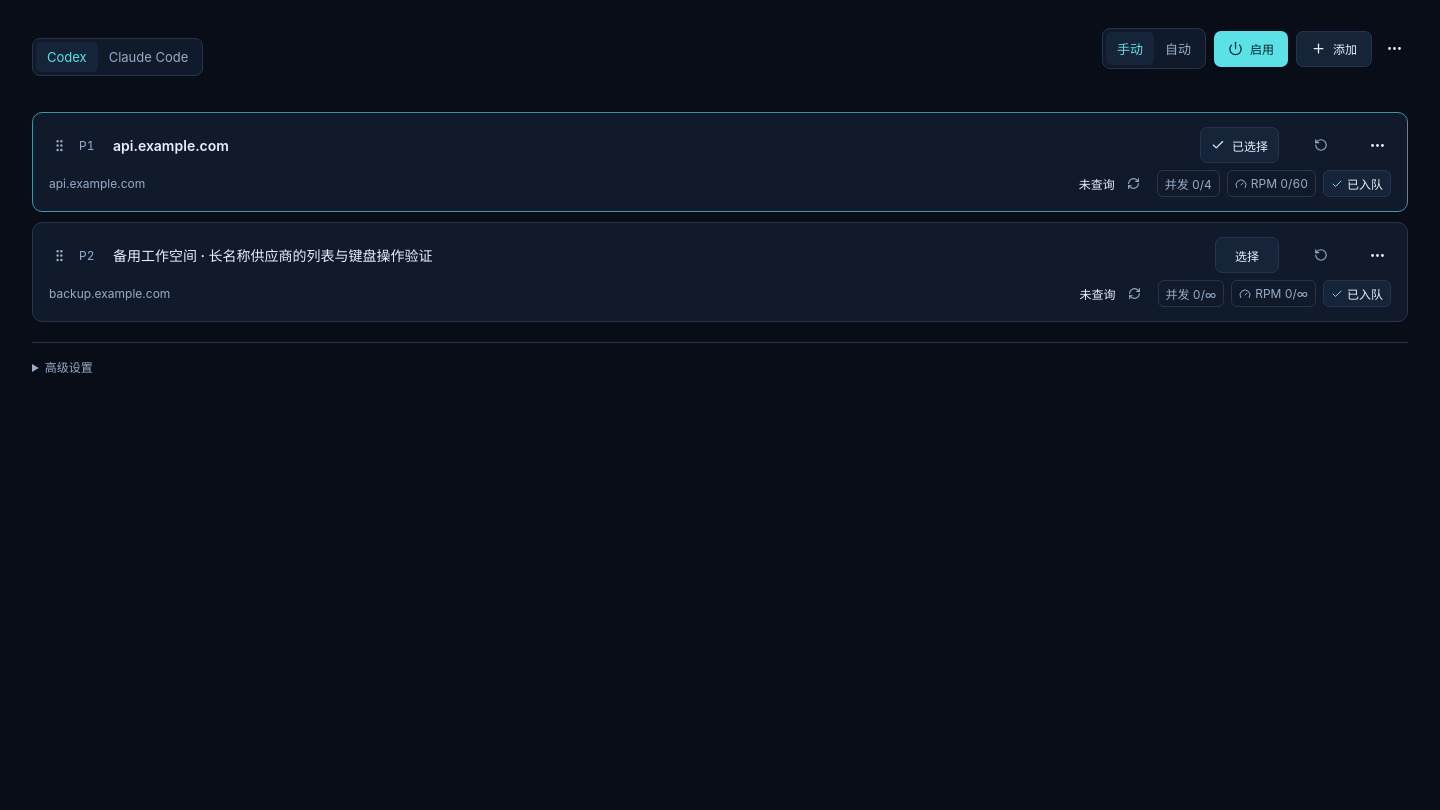
refreshes authoritative configuration after a cap conflict, preserves input and permits explicit retry
This screenshot has width=1440, height=810.
Click the button with aria-label "api.example.com 并发上限".
click(1188, 184)  # box x1=1157 y1=170 x2=1220 y2=197
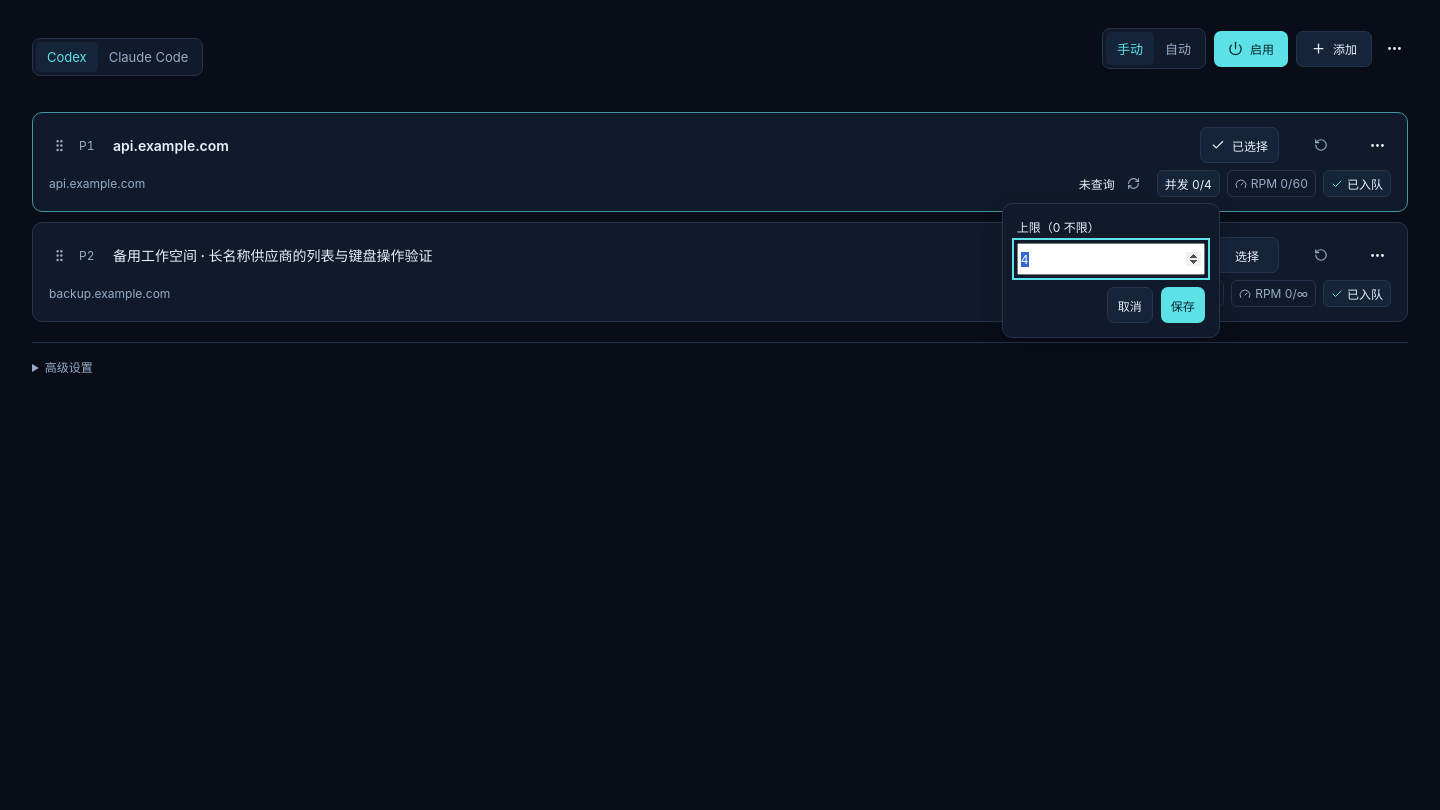
Replace the text in the number field labelled "上限（0 不限）" with "12" at [1111, 259], box x1=1017 y1=243 x2=1205 y2=275
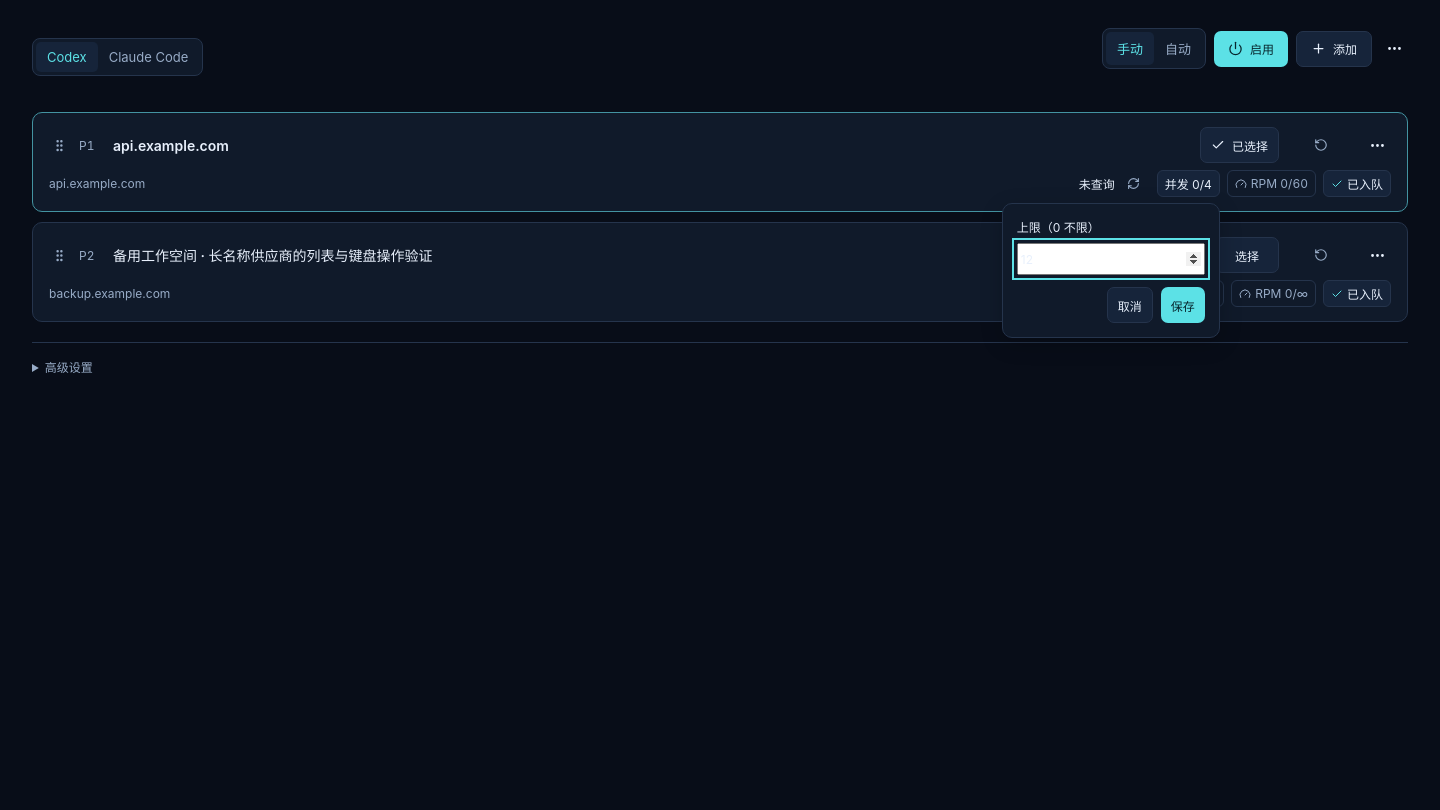
Click the button "保存".
click(1183, 305)  # box x1=1161 y1=287 x2=1205 y2=323
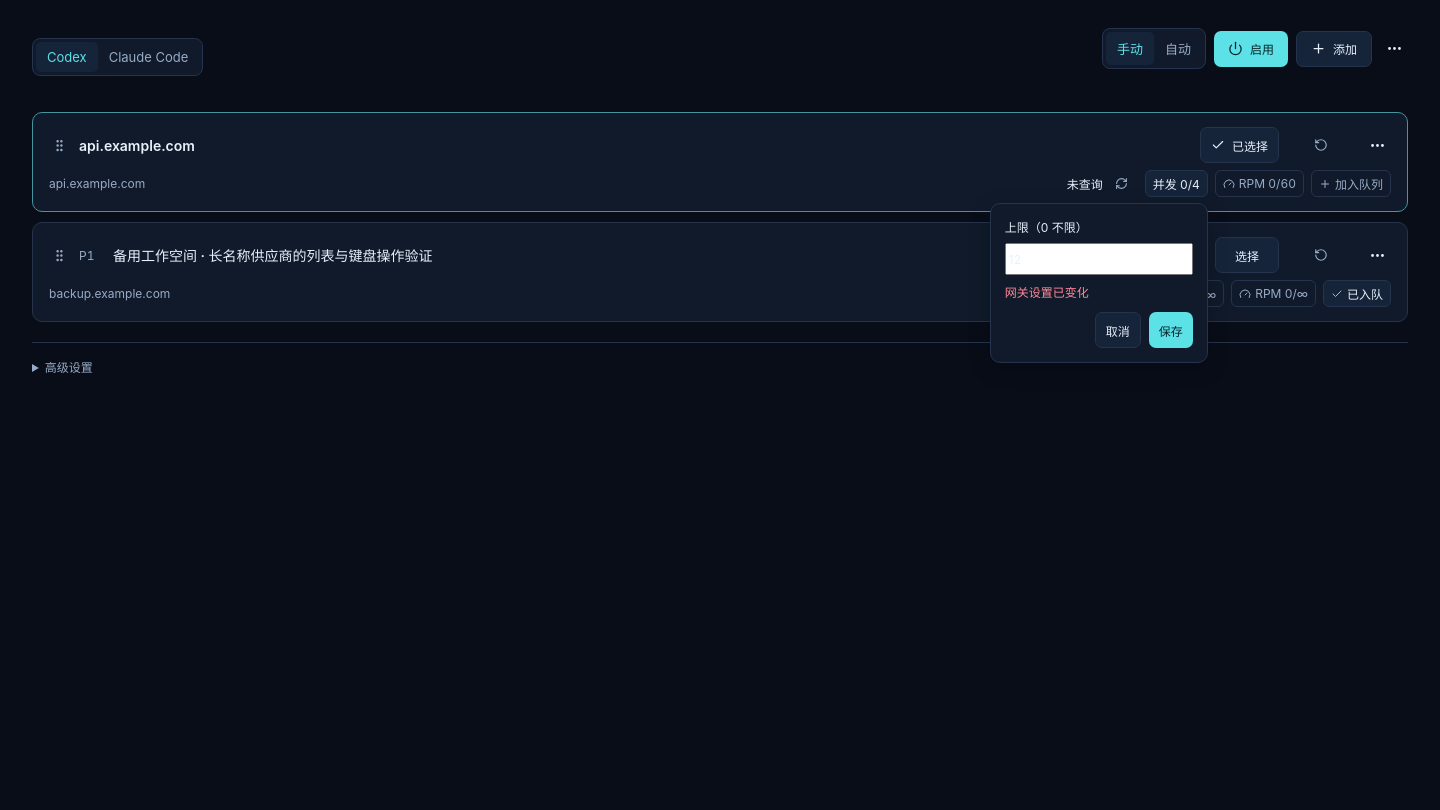
Expected: the message reads "网关设置已变化", x1=1005 y1=285 x2=1089 y2=300
Click the button "保存".
click(1171, 330)  # box x1=1149 y1=312 x2=1193 y2=348
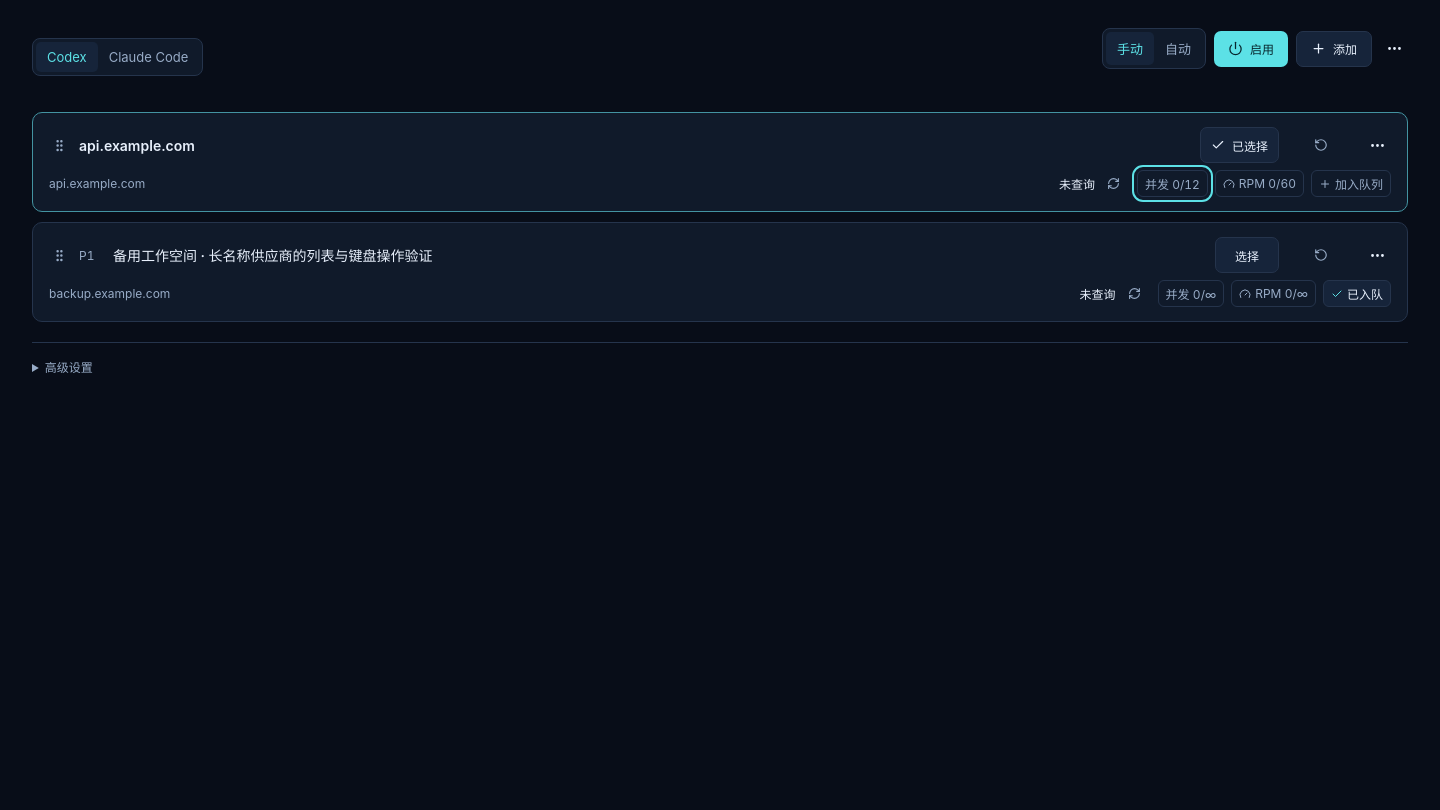
Expected: the dialog is gone
Expected: the button with aria-label "api.example.com 并发上限" reads "并发 0/12", x1=1137 y1=170 x2=1208 y2=197
